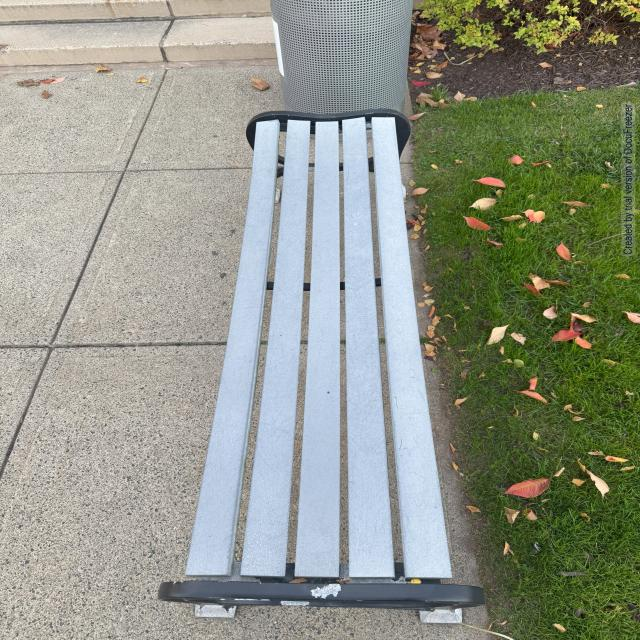chair: (163, 91, 483, 629)
